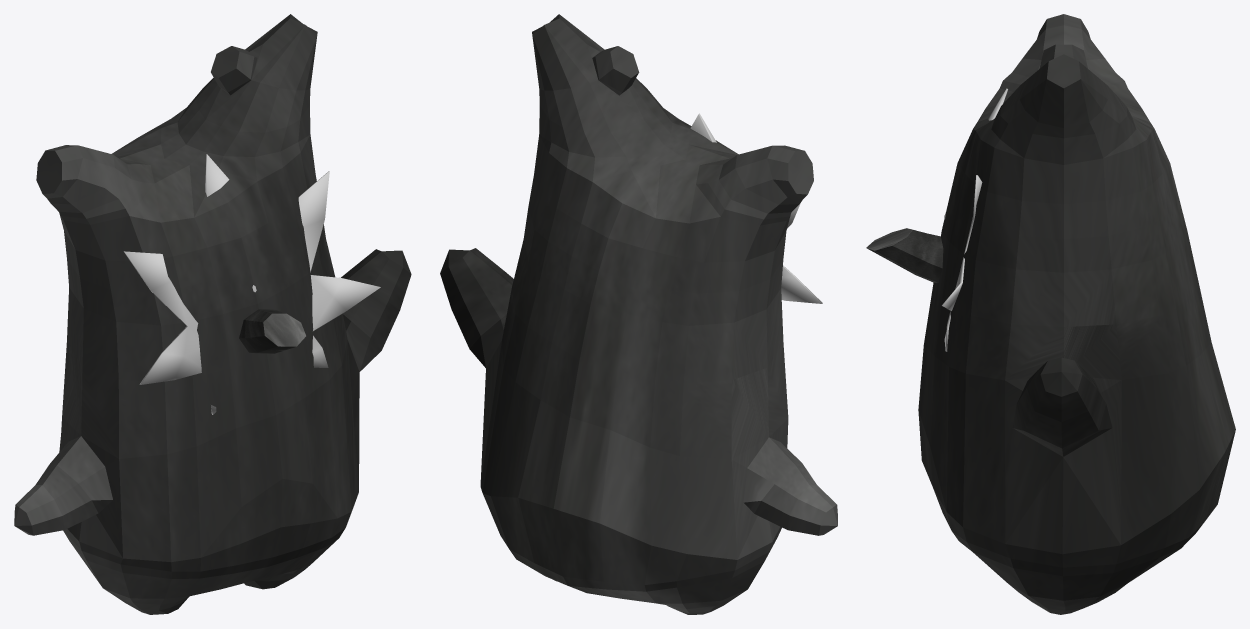
The model's file is frame_0035.obj.
3 renders of one model, left to right at view 1: azimuth 30°, elevation 25°; view 2: azimuth 150°, elevation 25°; view 3: azimuth 270°, elevation 25°, orthographic.
Parts seen in each view (by area): view 1: korok, leaf.003_柱体.013, nose.003_柱体.011; view 2: korok, leaf.003_柱体.013; view 3: korok, nose.003_柱体.011, leaf.003_柱体.013.
Boxes of the visible parts, x1=… form: korok: x1=14, y1=14, x2=411, y2=614; leaf.003_柱体.013: x1=123, y1=154, x2=380, y2=414; nose.003_柱体.011: x1=239, y1=309, x2=305, y2=353; korok: x1=440, y1=14, x2=837, y2=614; leaf.003_柱体.013: x1=690, y1=113, x2=822, y2=303; korok: x1=918, y1=14, x2=1235, y2=614; nose.003_柱体.011: x1=866, y1=228, x2=943, y2=282; leaf.003_柱体.013: x1=942, y1=88, x2=1007, y2=351.
Size of the model in its own units: 1.69 by 2.31 by 1.36.
